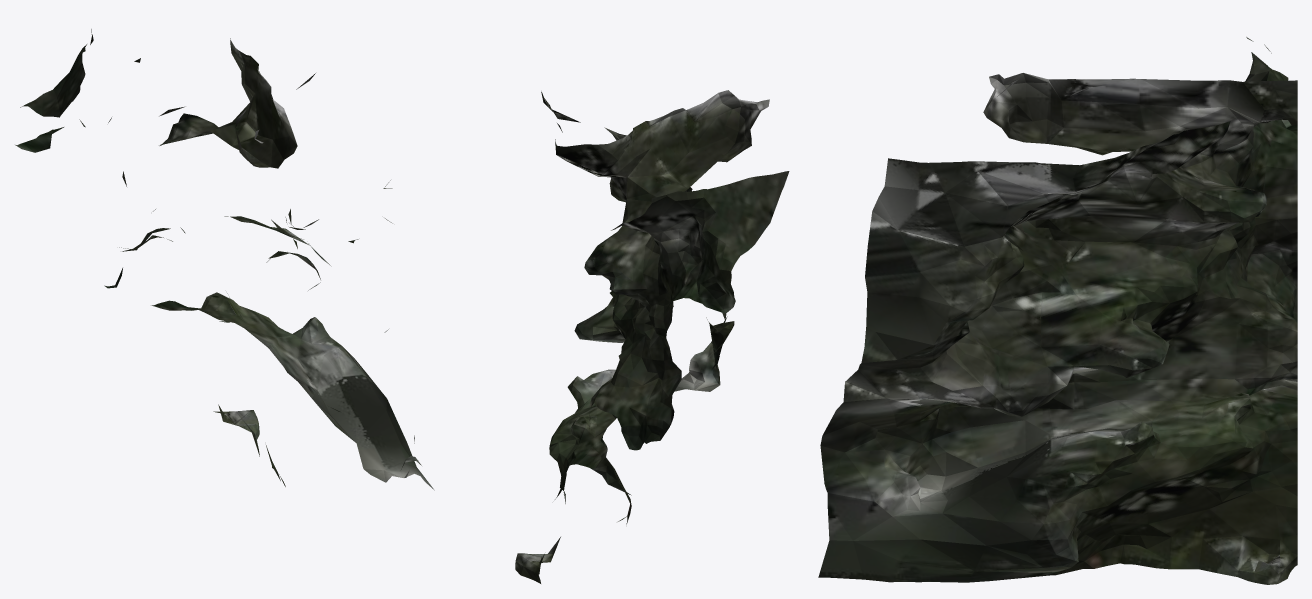
3 views of the same model, side by side, from view 1: azimuth 30°, elevation 25°; view 2: azimuth 150°, elevation 25°; view 3: azimuth 270°, elevation 25° (orthographic). The views are drawn at different scales.
Size of the model in its own units: 2.4 by 3.35 by 3.22.
Materials: 4 (4 with a texture image).
